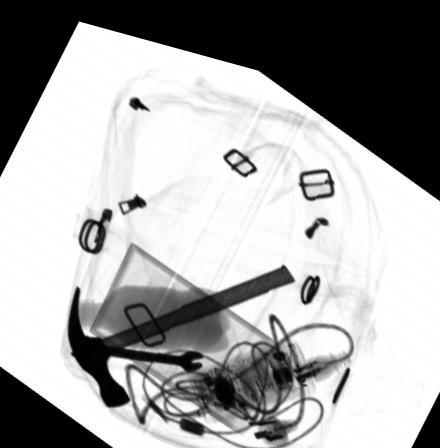Hammer: (66, 250, 294, 403)
Wrench: (67, 331, 204, 364)
